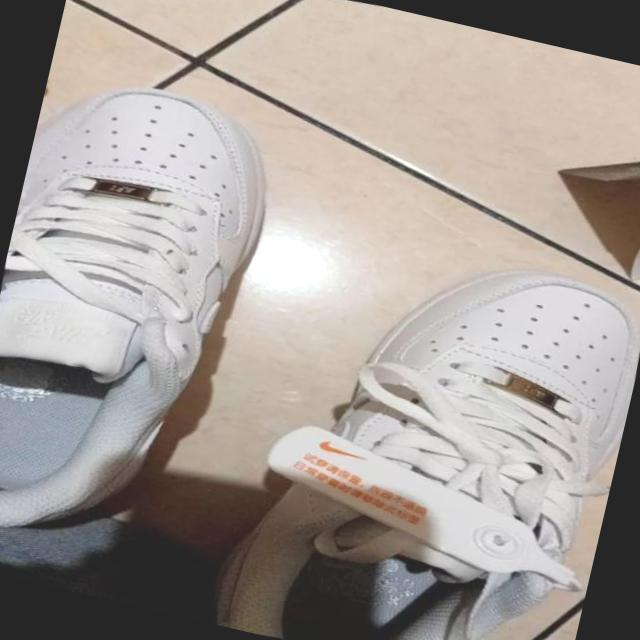nike_fake_airforce: (202, 207, 640, 640), (0, 55, 315, 584)
